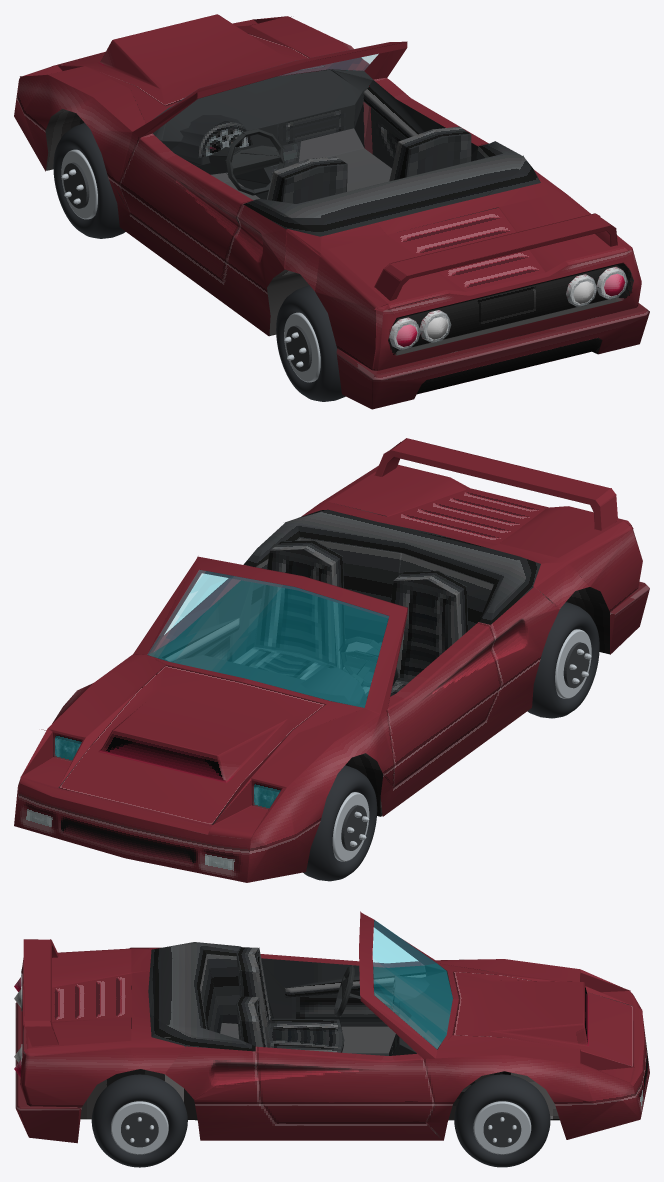
Rendered from car-bart_v.glb.
3 views of the same model, one above another, from view 1: azimuth 30°, elevation 25°; view 2: azimuth 150°, elevation 25°; view 3: azimuth 270°, elevation 25° (orthographic). The views are drawn at different scales.
Parts seen in each view (by area): view 1: bart_vShape.005, bart_vShape.001, bart_vShape.002, TrunkRotShape.005, HoodRotShape.005, bart_vShape.004, DoorDRotShape.024, TrunkRotShape.006, Rounded tire.040, Rounded tire.042, DoorPRotShape.025, bart_vShape (+7 smaller); view 2: bart_vShape.005, bart_vShape.004, bart_vShape.002, HoodRotShape.005, bart_vShape.008, TrunkRotShape.005, DoorDRotShape.024, TrunkRotShape.006, DoorPRotShape.025, Rounded tire.040, Rounded tire.042, bart_vShape (+6 smaller); view 3: bart_vShape.005, bart_vShape.003, DoorPRotShape.023, bart_vShape.004, HoodRotShape.005, bart_vShape.002, TrunkRotShape.005, DoorDIntShape, bart_vShape.008, Rounded tire.041, Rounded tire.043, bart_vShape.001 (+7 smaller).
Boxes of the visible parts, x1=… form: bart_vShape.005: x1=153, y1=69, x2=540, y2=306; bart_vShape.001: x1=336, y1=246, x2=649, y2=409; bart_vShape.002: x1=14, y1=75, x2=641, y2=370; TrunkRotShape.005: x1=328, y1=192, x2=623, y2=303; HoodRotShape.005: x1=59, y1=14, x2=324, y2=106; bart_vShape.004: x1=20, y1=16, x2=407, y2=153; DoorDRotShape.024: x1=119, y1=133, x2=253, y2=280; TrunkRotShape.006: x1=387, y1=207, x2=545, y2=291; Rounded tire.040: x1=276, y1=285, x2=345, y2=401; Rounded tire.042: x1=53, y1=123, x2=125, y2=238; DoorPRotShape.025: x1=363, y1=80, x2=478, y2=168; bart_vShape: x1=45, y1=52, x2=596, y2=362; bart_vShape.005: x1=58, y1=505, x2=540, y2=824; bart_vShape.004: x1=14, y1=556, x2=494, y2=882; bart_vShape.002: x1=247, y1=465, x2=642, y2=882; HoodRotShape.005: x1=59, y1=665, x2=325, y2=824; bart_vShape.008: x1=147, y1=570, x2=388, y2=707; TrunkRotShape.005: x1=328, y1=438, x2=623, y2=557; DoorDRotShape.024: x1=387, y1=622, x2=500, y2=786; TrunkRotShape.006: x1=388, y1=489, x2=544, y2=544; DoorPRotShape.025: x1=153, y1=580, x2=253, y2=676; Rounded tire.040: x1=527, y1=602, x2=599, y2=718; Rounded tire.042: x1=303, y1=765, x2=377, y2=881; bart_vShape: x1=214, y1=587, x2=609, y2=823; bart_vShape.005: x1=131, y1=942, x2=631, y2=1070; bart_vShape.003: x1=165, y1=1046, x2=640, y2=1140; DoorPRotShape.023: x1=255, y1=1046, x2=434, y2=1122; bart_vShape.004: x1=257, y1=911, x2=649, y2=1118; HoodRotShape.005: x1=452, y1=971, x2=633, y2=1066; bart_vShape.002: x1=22, y1=947, x2=632, y2=1142; TrunkRotShape.005: x1=23, y1=939, x2=131, y2=1048; DoorDIntShape: x1=261, y1=958, x2=425, y2=1026; bart_vShape.008: x1=373, y1=920, x2=452, y2=1048; Rounded tire.041: x1=454, y1=1074, x2=550, y2=1167; Rounded tire.043: x1=91, y1=1074, x2=187, y2=1167; bart_vShape.001: x1=14, y1=958, x2=80, y2=1143.
Bounding box in the file's own units: 2.33 × 1.58 × 5.39.
12 materials, 9 textured.
